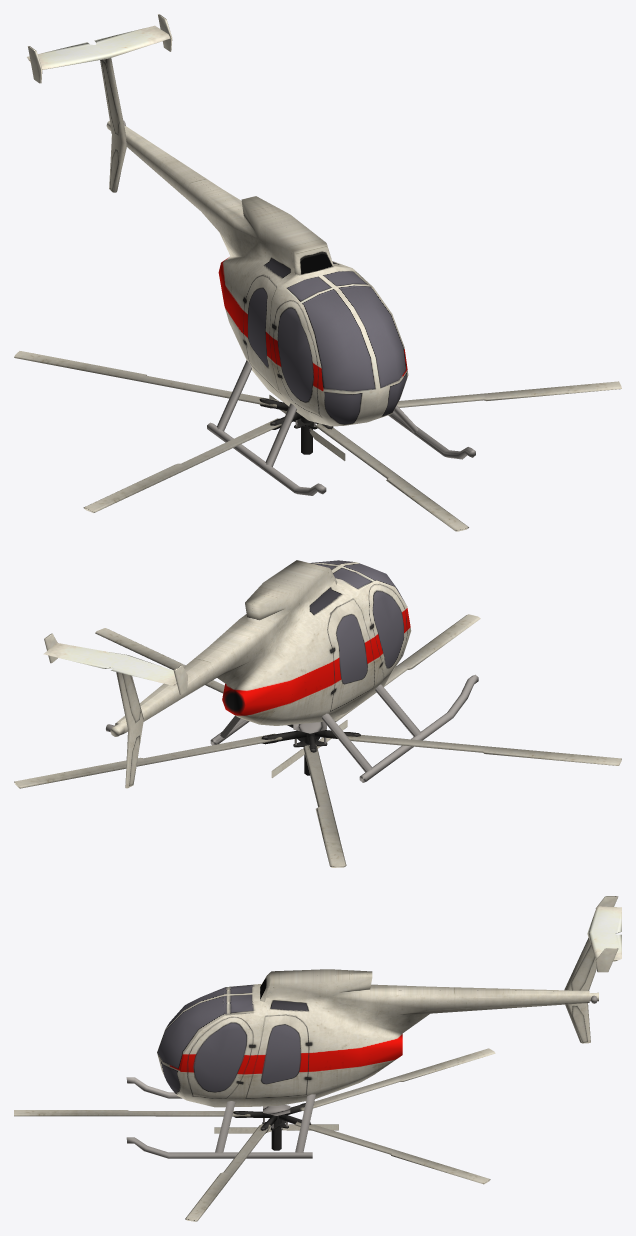
Rendered from helicopter_hughes.fbx.
The picture shows the model from 3 angles, top to bottom: view 1: azimuth 30°, elevation 25°; view 2: azimuth 150°, elevation 25°; view 3: azimuth 270°, elevation 25°; orthographic projection. The views are drawn at different scales.
Visible parts, largest first — view 1: body_main, rotor; view 2: body_main, rotor; view 3: body_main, rotor, heckrotor.
Boxes of the visible parts, <box> form: body_main: <box>27,14,475,495</box>; rotor: <box>14,351,621,531</box>; body_main: <box>43,560,478,788</box>; rotor: <box>14,614,621,867</box>; body_main: <box>126,896,621,1158</box>; rotor: <box>14,1048,495,1221</box>; heckrotor: <box>214,1124,338,1133</box>.
Size of the model in its own units: 535 by 262 by 645.
